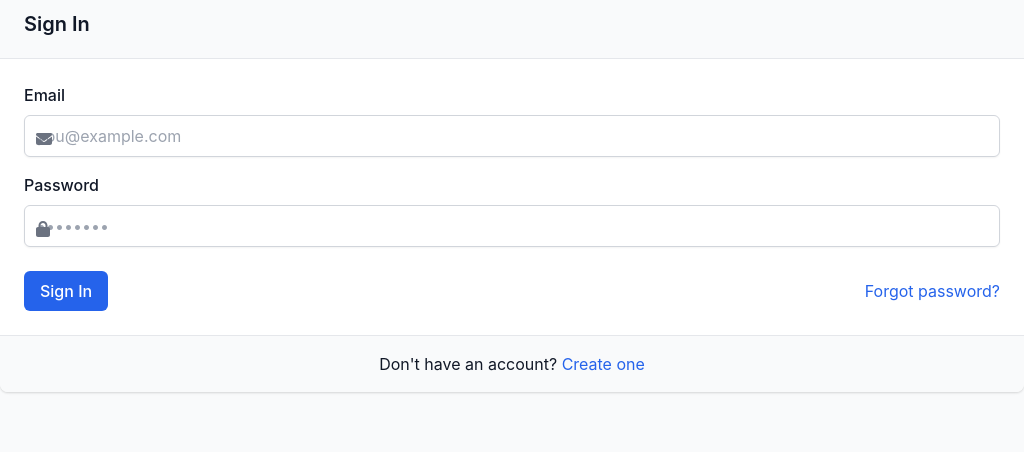
Test: LoginForm Component › handles Firebase auth "user not found" error
This screenshot has width=1024, height=452.
// Fill in valid data
In the field labelled "Email": (512, 136) [24,115,1000,157], type "nonexistent@example.com"
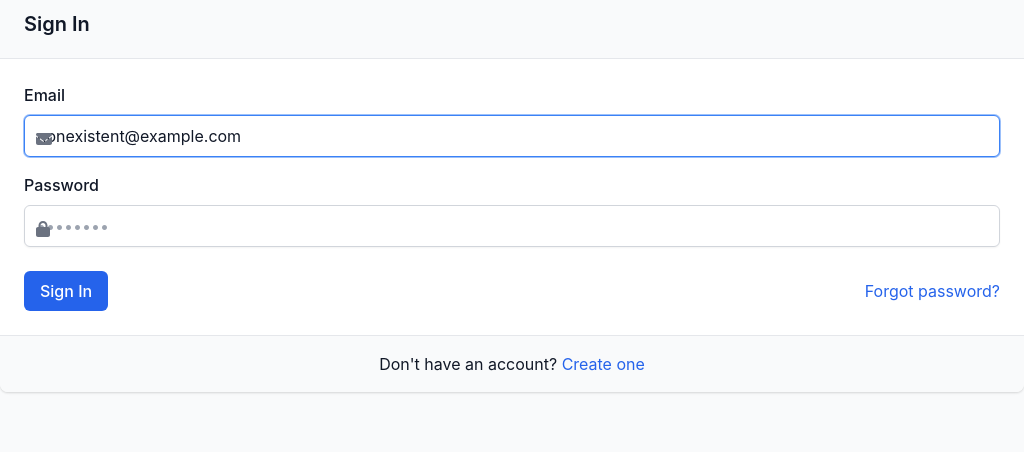
In the password field labelled "Password": (512, 226) [24,205,1000,247], type "Password123!"
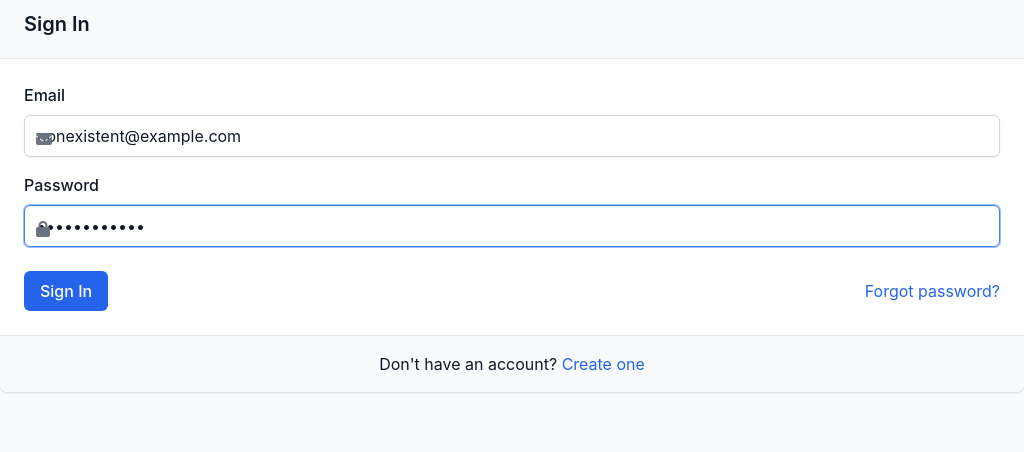
// Submit the form
Click the button "Sign In": (66, 291) [24,271,108,311]
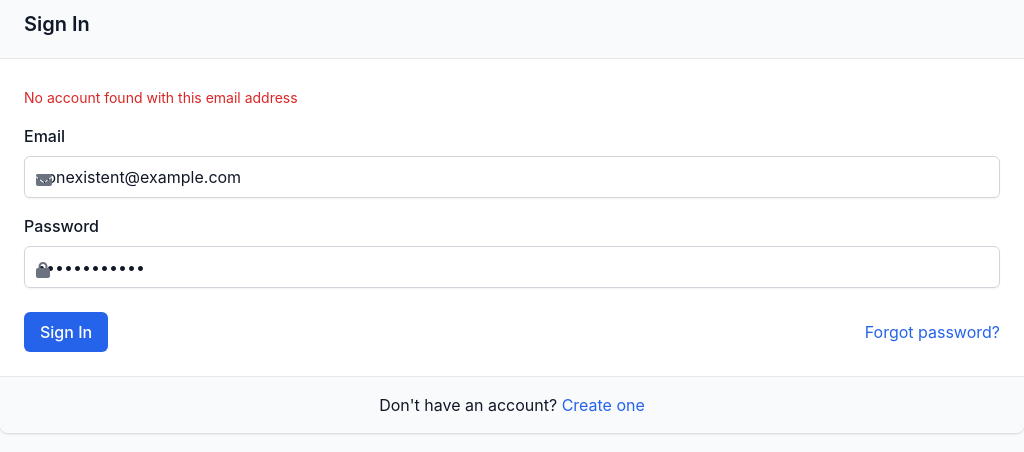
Expected: the text "No account found with this email address" is shown, [24,89,298,106]
